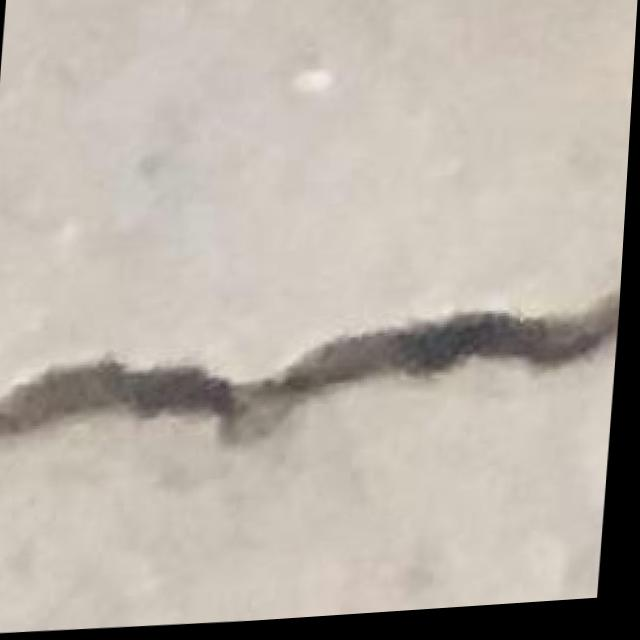Crack: (0, 285, 617, 456)
